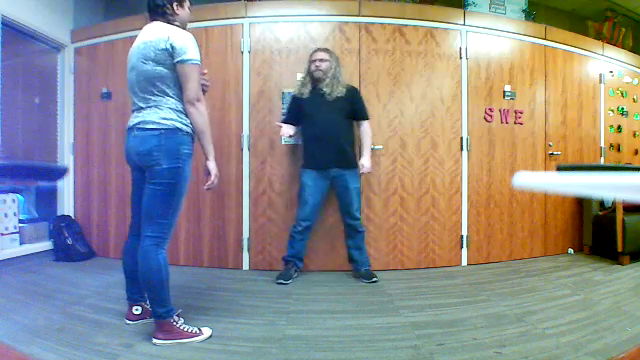land: (267, 119, 301, 143)
